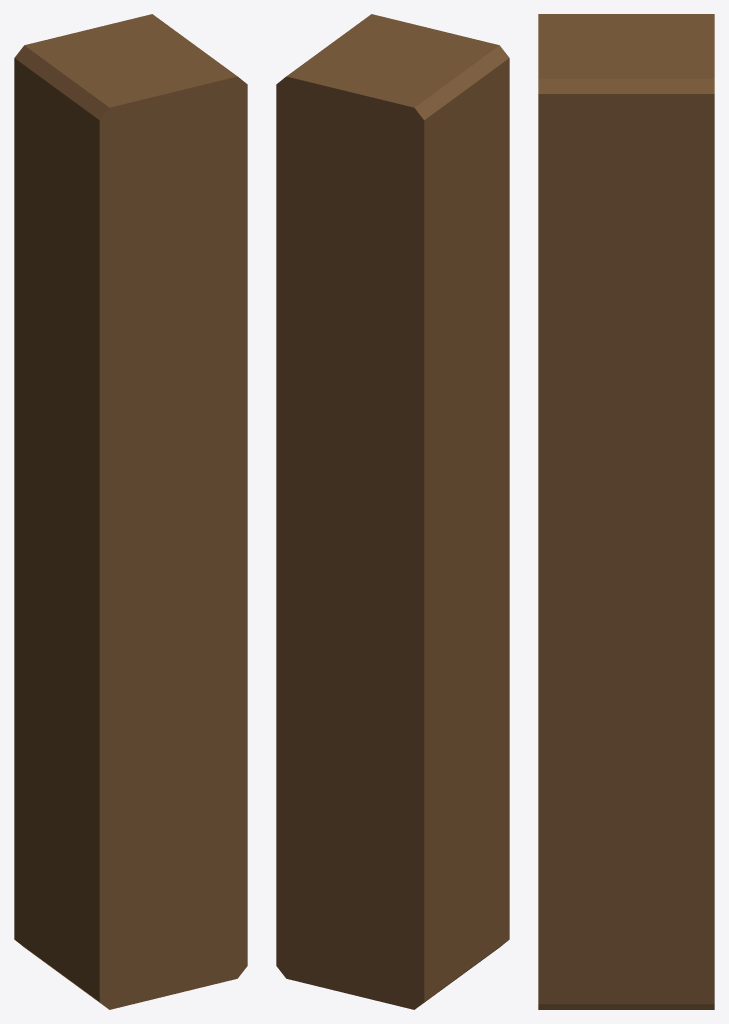
Rendered from Fence.gltf.
The picture shows the model from 3 angles, left to right: view 1: azimuth 30°, elevation 25°; view 2: azimuth 150°, elevation 25°; view 3: azimuth 270°, elevation 25°; orthographic projection. The views are drawn at different scales.
Parts seen in each view (by area): view 1: Post; view 2: Post; view 3: Post.
Boxes of the visible parts, left/top/right/bottom form: Post: left=14, top=14, right=247, bottom=1009; Post: left=276, top=14, right=509, bottom=1009; Post: left=538, top=14, right=714, bottom=1009.
Size of the model in its own units: 0.12 by 0.7 by 0.12.
